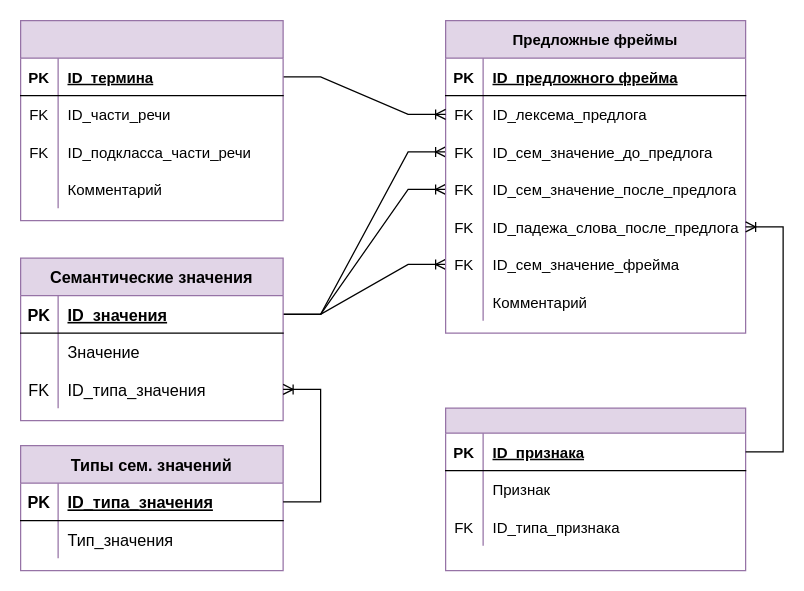
Image size: 804x591. Some labels were removed from this diagram. The shapes that lost their labels are listed below. From the top down, each one's box as (x1, y1, x2, y2) in pixels, then its label:
(19, 19, 283, 221): Термины
(444, 407, 746, 571): Морфологические признаки
